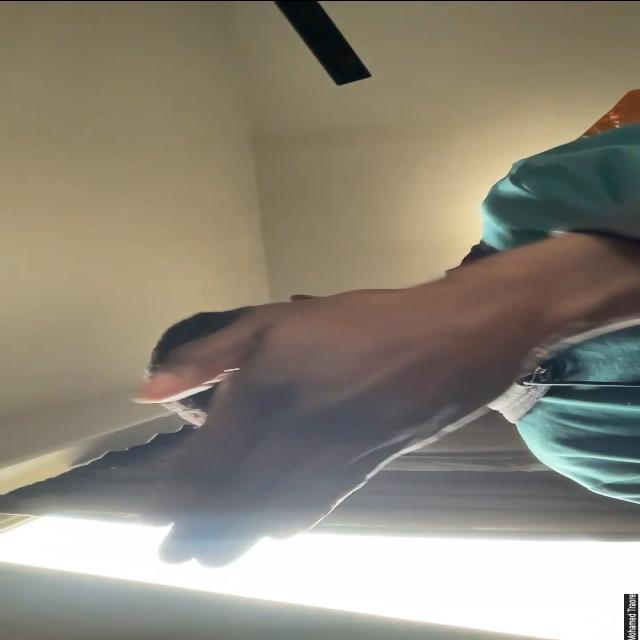Paper: (132, 283, 532, 566)
